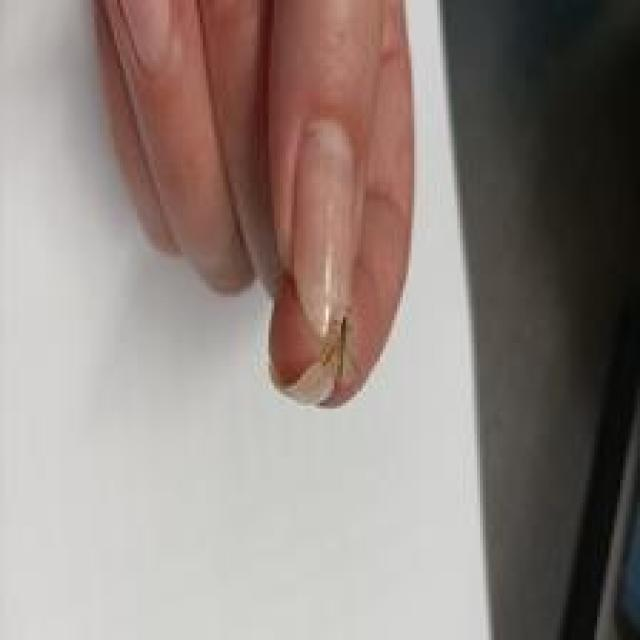Culex: (80, 0, 417, 409)
